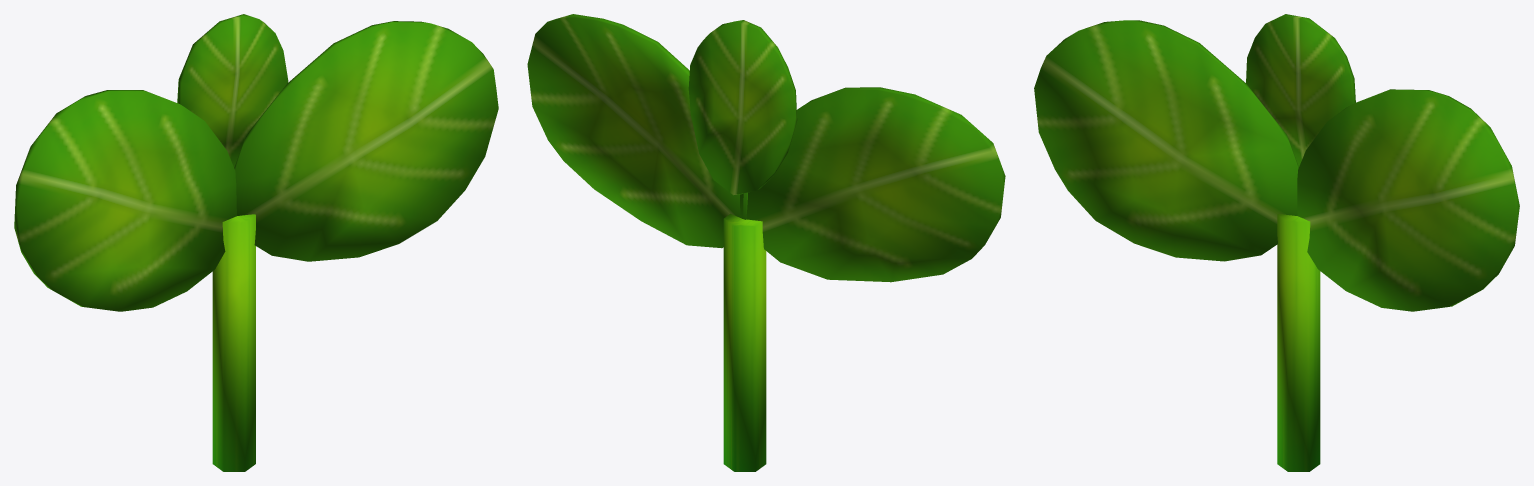
File: NP_Pea_Sprout_LOD1.fbx
3 renders of one model, left to right at view 1: azimuth 30°, elevation 25°; view 2: azimuth 150°, elevation 25°; view 3: azimuth 330°, elevation 25°, orthographic.
Parts seen in each view (by area): view 1: NP_Pea_Sprout; view 2: NP_Pea_Sprout; view 3: NP_Pea_Sprout.
Boxes of the visible parts, box(x1,y1,x2,y2) form: NP_Pea_Sprout: box(14, 14, 498, 471); NP_Pea_Sprout: box(527, 14, 1005, 471); NP_Pea_Sprout: box(1034, 14, 1519, 471).
Size of the model in its own units: 20.65 by 18.33 by 2.87.
